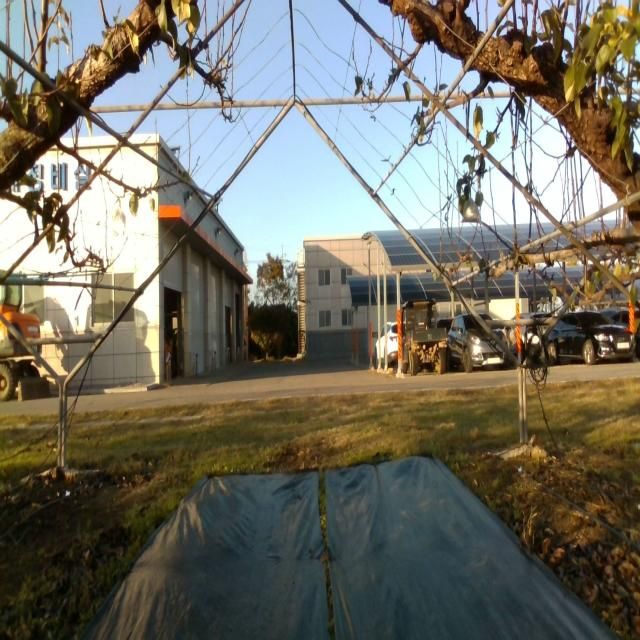pearbags: (460, 197, 483, 226), (112, 205, 126, 238)
